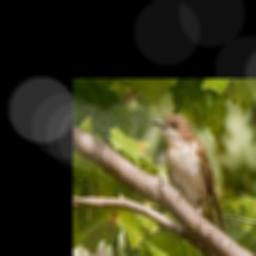Cuckoo: (149, 109, 232, 256)
